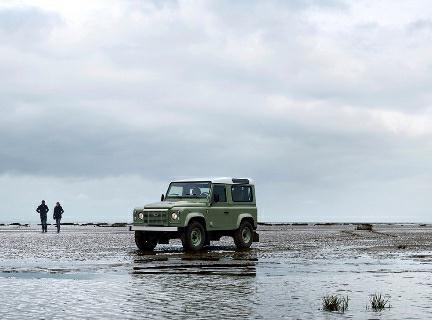路虎-卫士: (123, 176, 267, 254)
